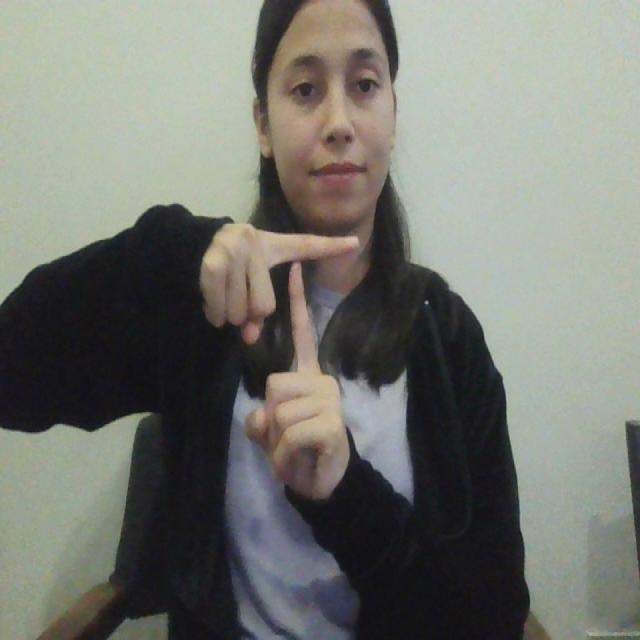Tesekkurler: (244, 208, 362, 403)
